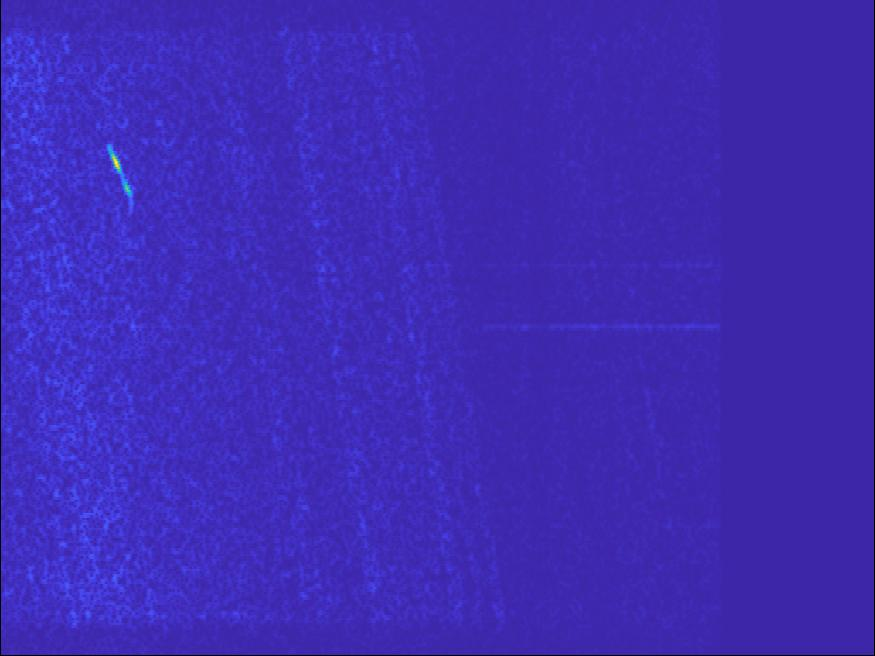Interference: (653, 433, 841, 580), (524, 284, 783, 367), (267, 380, 361, 435), (716, 65, 819, 114)
